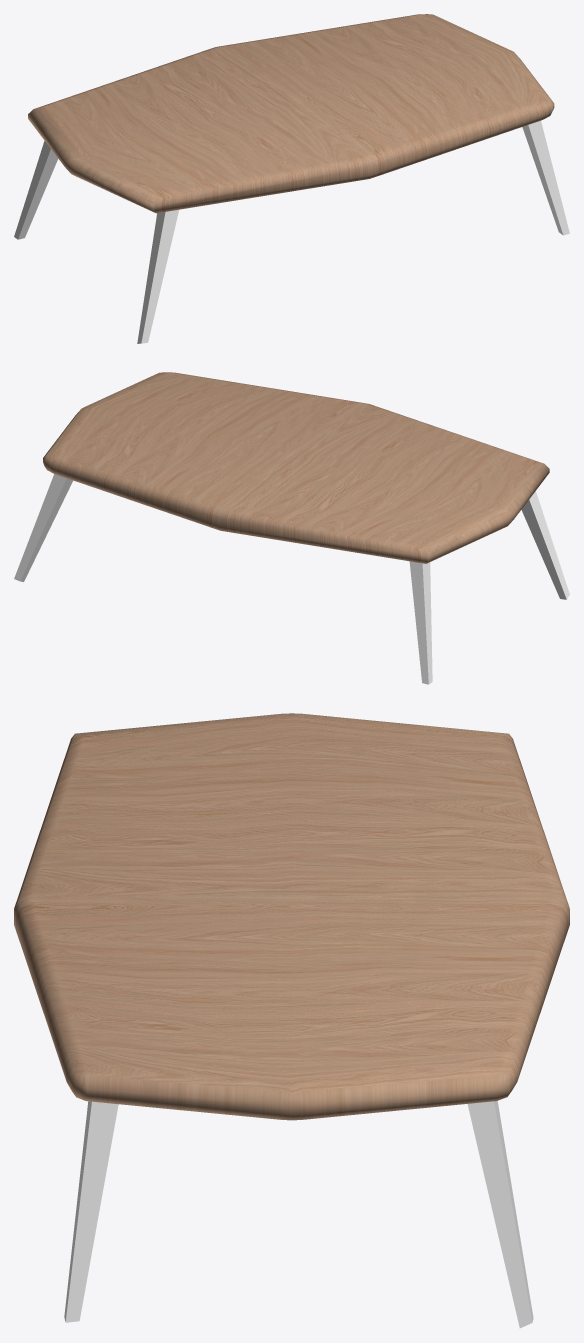
File: Meja_TrisnaCahyaPermadi.glb
3 views of the same model, one above another, from view 1: azimuth 30°, elevation 25°; view 2: azimuth 150°, elevation 25°; view 3: azimuth 270°, elevation 25° (orthographic). The views are drawn at different scales.
Parts seen in each view (by area): view 1: Plane.001; view 2: Plane.001; view 3: Plane.001.
Part boxes in pixels (left/top/right/bottom): Plane.001: left=14, top=14, right=569, bottom=343; Plane.001: left=14, top=372, right=569, bottom=684; Plane.001: left=14, top=713, right=569, bottom=1328.
Bounding box in the file's own units: 123 × 37.81 × 74.79.
Materials: 5 (1 with a texture image).
